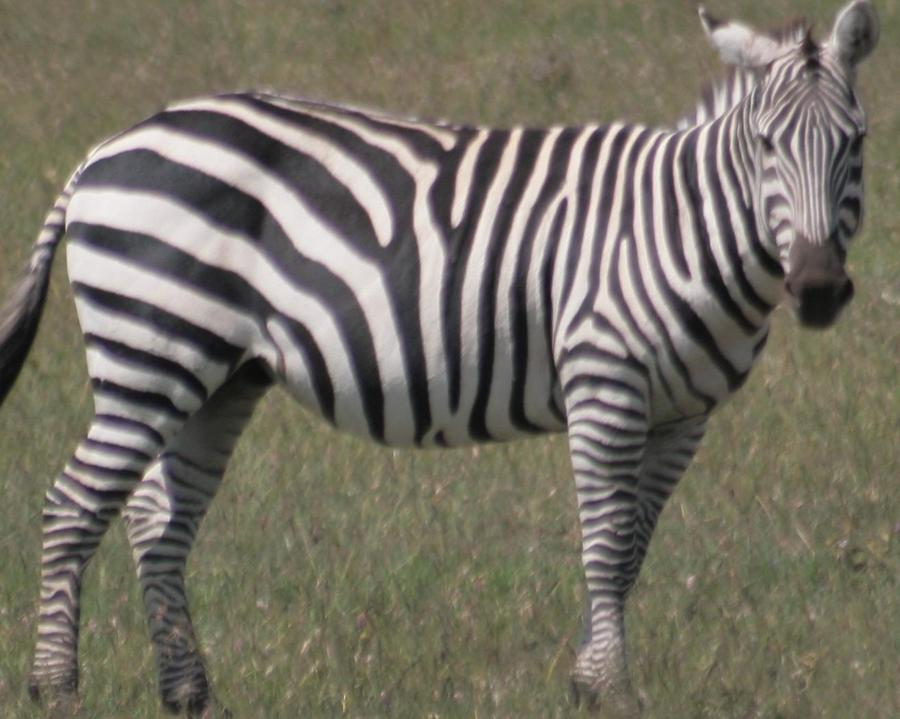zebra_plains: (23, 58, 721, 447)
